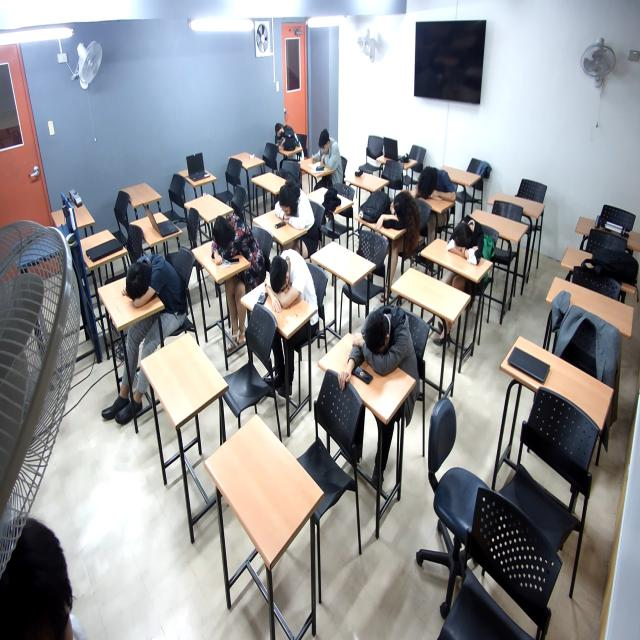sleep: (352, 306, 415, 380), (121, 245, 172, 315), (263, 246, 309, 313), (274, 183, 320, 233), (380, 190, 422, 243), (448, 214, 485, 268), (210, 216, 247, 266), (418, 164, 452, 207), (276, 119, 298, 152)
